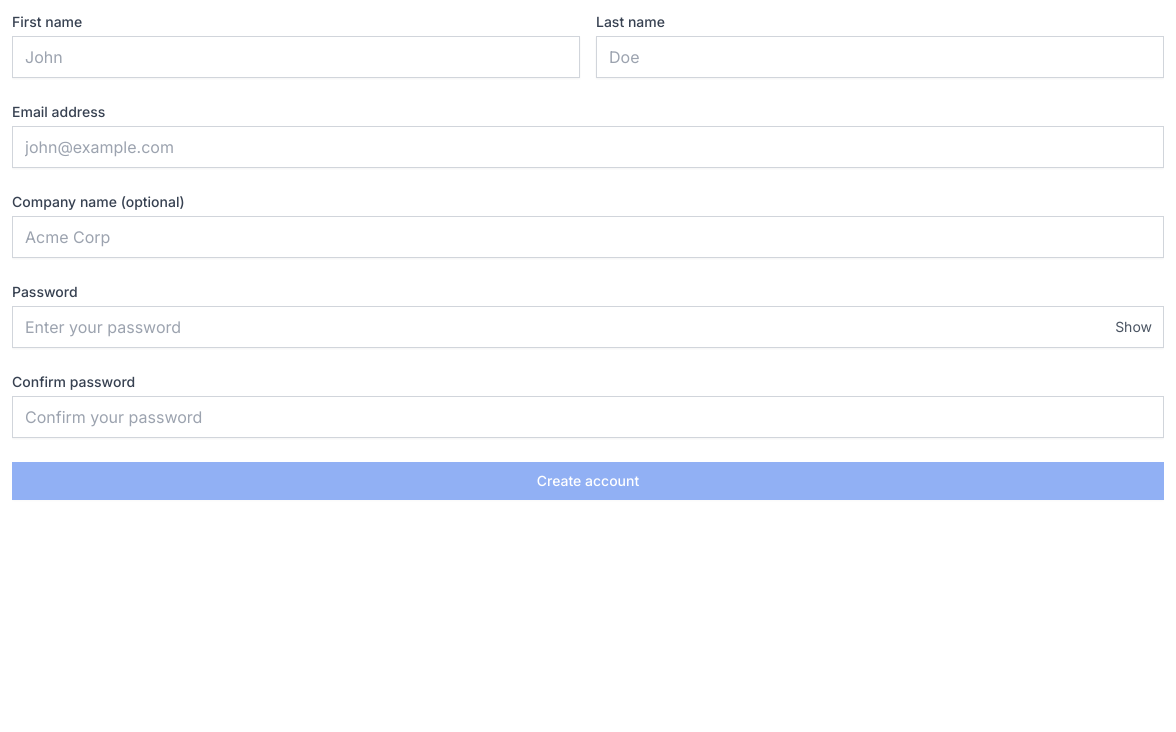
Scenario: SignupForm › validates password confirmation match
The width and height of the screenshot is (1176, 732).
Type "SecurePass123!" into the password field labelled "Password".
click(588, 327); type("SecurePass123!")  # box [12,306,1164,348]
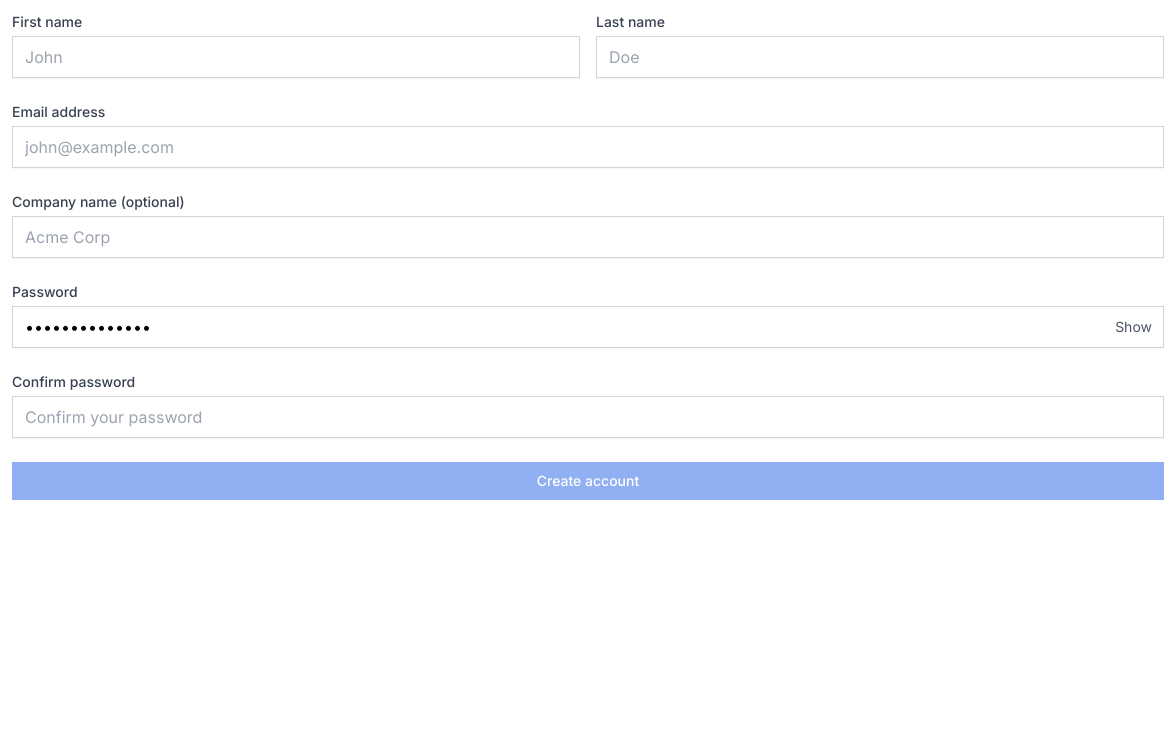
Type "DifferentPass123!" into the password field labelled "Confirm password".
click(588, 417); type("DifferentPass123!")  # box [12,396,1164,438]
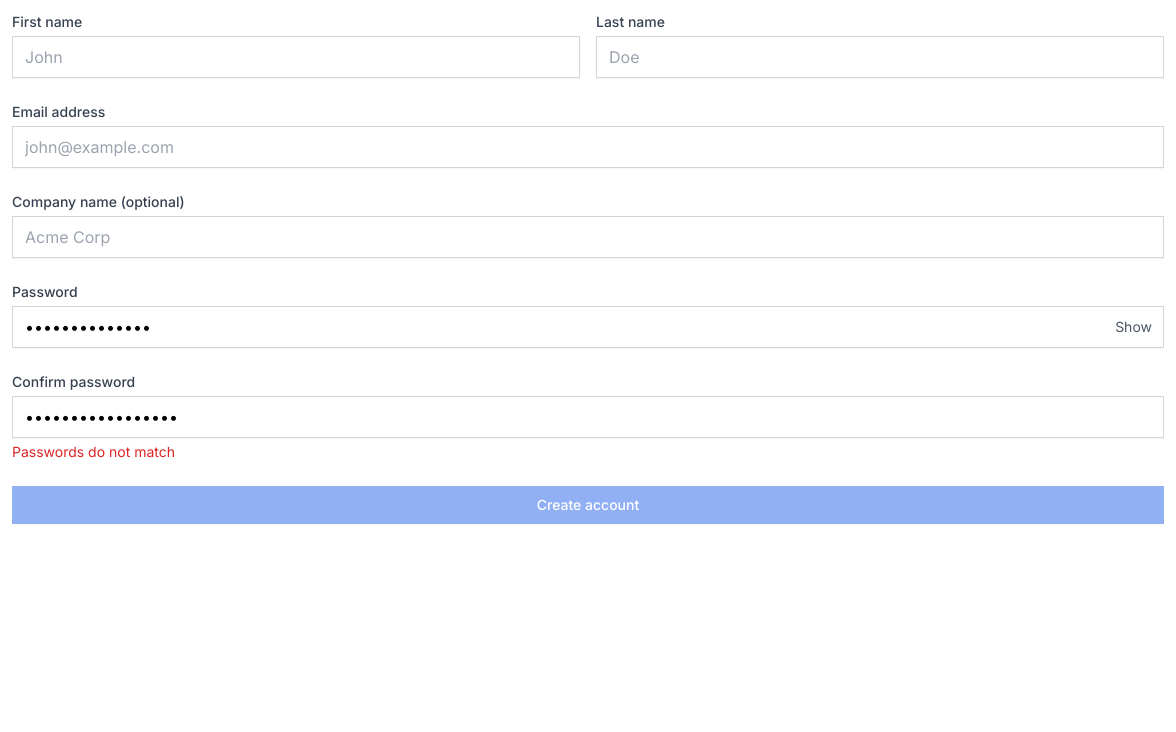
Expected: the text "Passwords do not match" is shown, [12,443,175,460]
